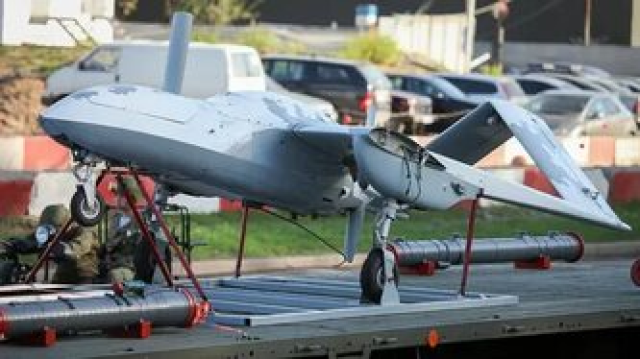military drone: (36, 12, 632, 305)
